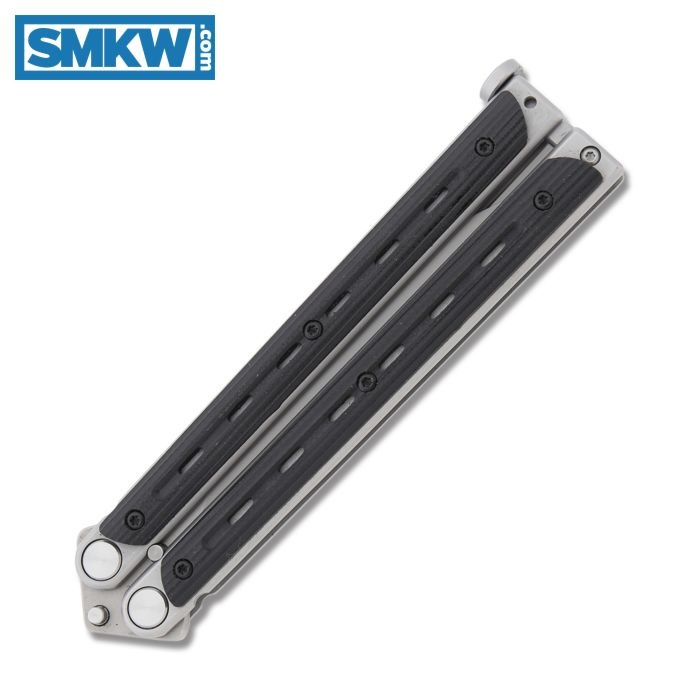knife: (72, 58, 634, 650)
